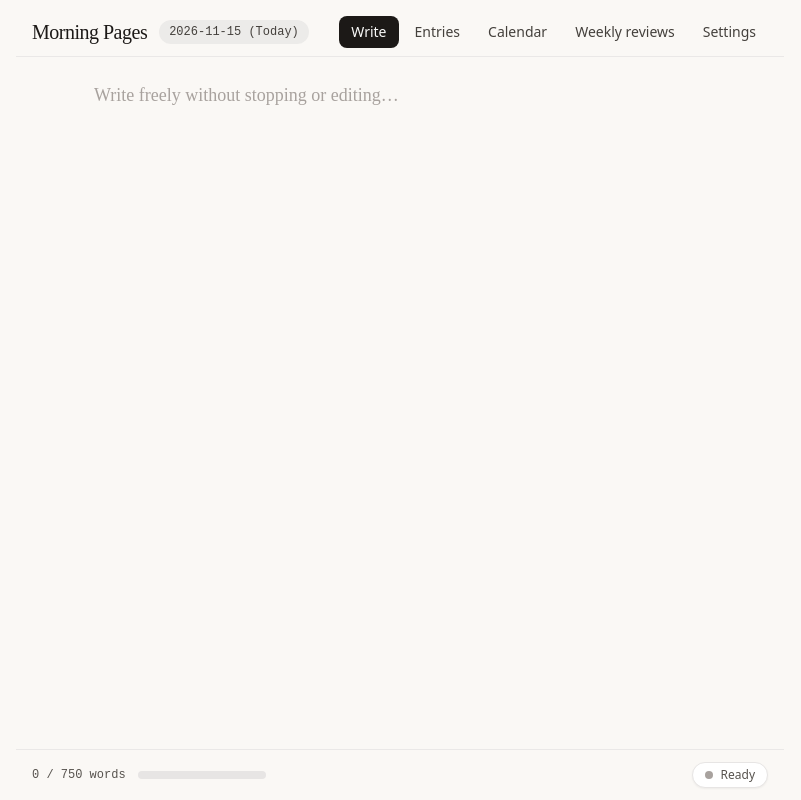
Scenario: Brief 4: Morning Pages writing experience & autosave resilience › simulates a network failure mid-typing, preserves all text in memory, warns on unload, and saves automatically after reconnection
User starts typing while network fails
Type "First sentence typed before network drops." into the text box named "Journal entry for 2026-11-15" at x=400, y=403, box [94, 81, 706, 725]
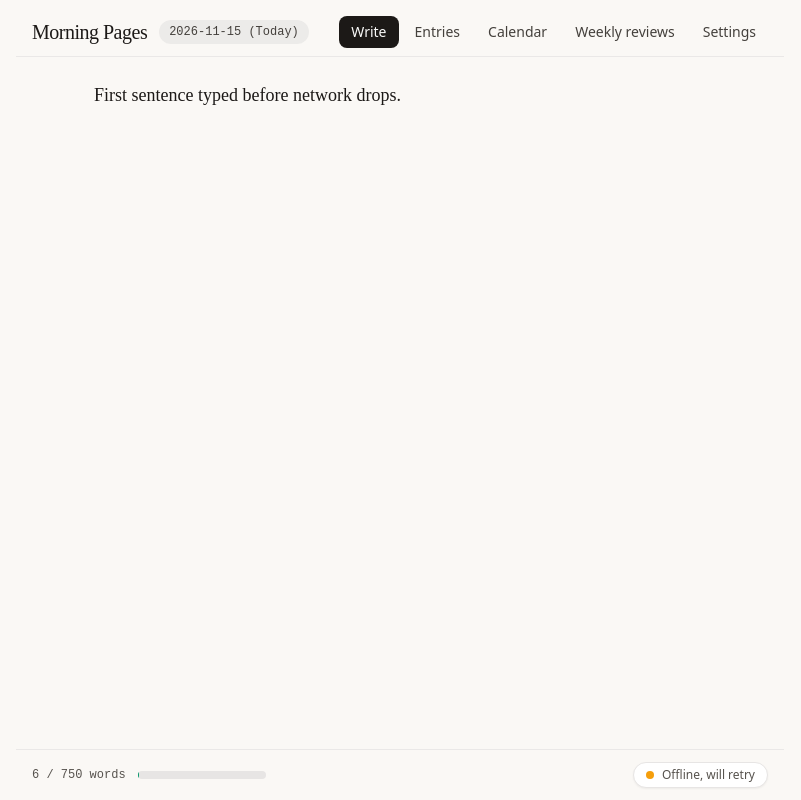
Now the text "Offline, will retry" is shown, box [662, 767, 755, 783]
Replace the text in the text box named "Journal entry for 2026-11-15" with "First sentence typed before network drops. Second sentence typed while offline!" at x=400, y=403, box [94, 81, 706, 725]
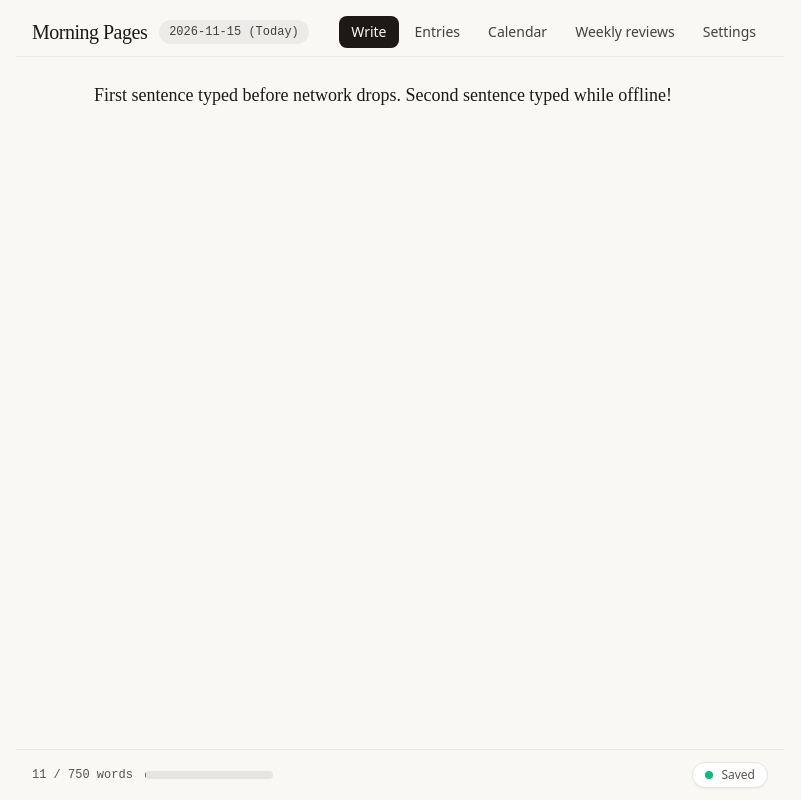
Now the text "Saved" is shown, box [721, 767, 755, 783]
